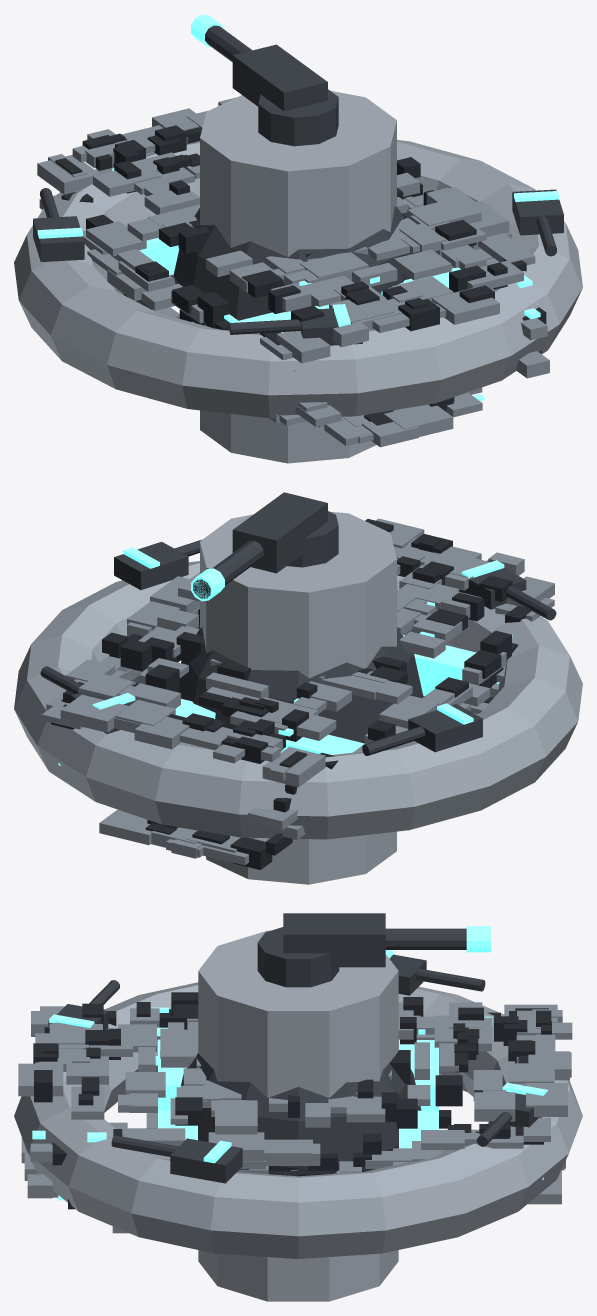
File: troyden_station.glb
The picture shows the model from 3 angles, top to bottom: view 1: azimuth 30°, elevation 25°; view 2: azimuth 150°, elevation 25°; view 3: azimuth 270°, elevation 25°; orthographic projection.
Parts seen in each view (by area): view 1: hull, turret_0, aux_2, aux_0, aux_1; view 2: hull, turret_0, aux_2, aux_0, aux_1, aux_3; view 3: hull, turret_0, aux_0, aux_2, aux_3, aux_1.
Boxes of the visible parts, bbox=[...] form: hull: bbox=[14, 91, 582, 463]; turret_0: bbox=[191, 14, 338, 146]; aux_2: bbox=[33, 188, 84, 261]; aux_0: bbox=[512, 189, 563, 256]; aux_1: bbox=[229, 304, 362, 345]; hull: bbox=[14, 511, 582, 884]; turret_0: bbox=[191, 492, 338, 601]; aux_2: bbox=[362, 703, 482, 755]; aux_0: bbox=[114, 539, 201, 589]; aux_1: bbox=[459, 560, 556, 620]; aux_3: bbox=[40, 666, 135, 733]; hull: bbox=[14, 930, 582, 1301]; turret_0: bbox=[257, 913, 490, 987]; aux_0: bbox=[111, 1135, 242, 1183]; aux_2: bbox=[385, 950, 485, 995]; aux_3: bbox=[477, 1082, 547, 1146]; aux_1: bbox=[44, 980, 119, 1033].
Bounding box in the file's own units: 122 × 79.71 × 122.
